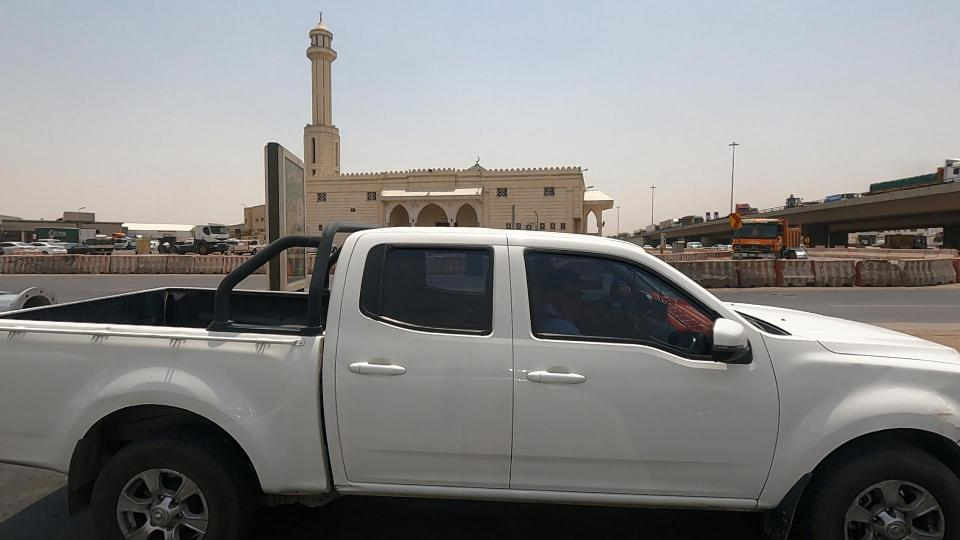CONSTRUCTION_ROAD: (624, 234, 862, 303), (760, 238, 960, 296)
